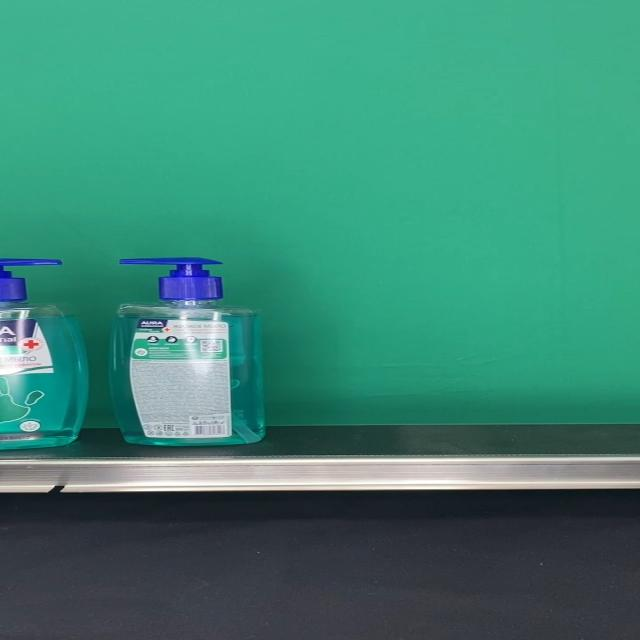Bottle: (110, 258, 266, 447)
Cap: (120, 258, 223, 300)
